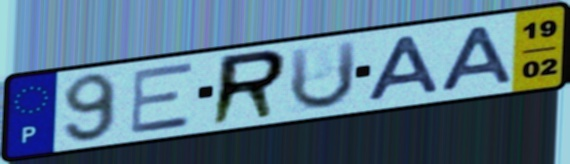9: (59, 71, 123, 144)
A: (435, 23, 517, 94), (364, 33, 445, 103)
E: (128, 60, 195, 137)
R: (206, 47, 291, 129)
U: (286, 37, 360, 114)
